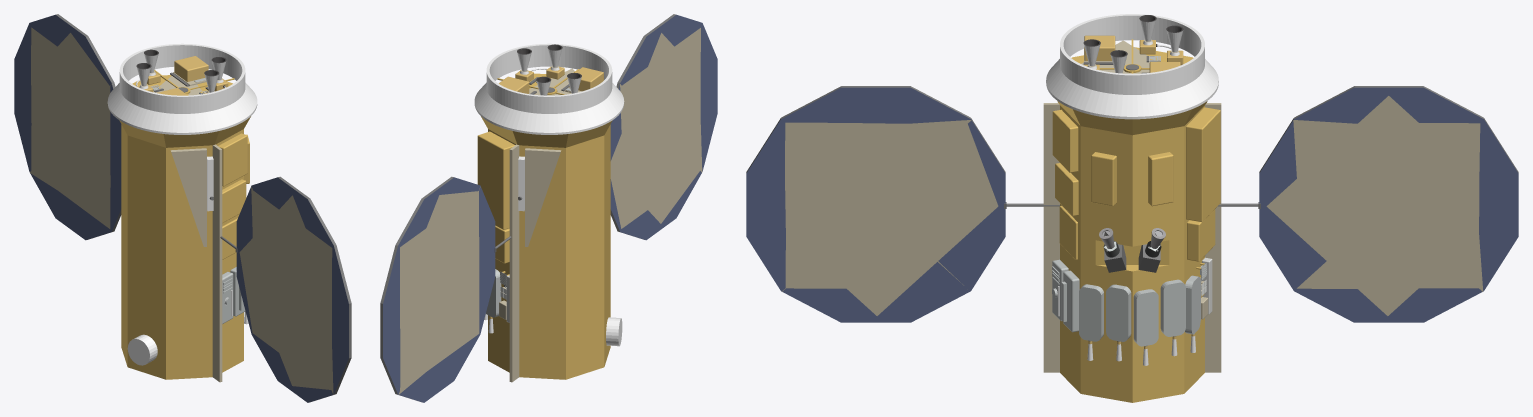
Rendered from deformation-ecosystem-structure-and-dynamics-of-.glb.
3 renders of one model, left to right at view 1: azimuth 30°, elevation 25°; view 2: azimuth 150°, elevation 25°; view 3: azimuth 270°, elevation 25°, orthographic. The views are drawn at different scales.
Parts seen in each view (by area): view 1: Layer_0; view 2: Layer_0; view 3: Layer_0.
Part boxes in pixels (bbox=[...]): Layer_0: bbox=[14, 14, 351, 402]; Layer_0: bbox=[380, 14, 717, 402]; Layer_0: bbox=[746, 14, 1518, 402].
Size of the model in its own units: 4.79 by 10.2 by 21.28.
2 materials, 2 textured.
